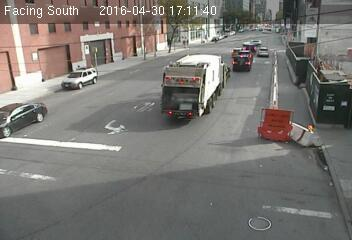neg: (33, 99, 59, 134), (280, 114, 306, 149), (83, 110, 109, 144), (192, 146, 217, 179), (155, 71, 176, 100), (187, 34, 208, 63), (274, 47, 294, 74), (76, 52, 92, 74), (125, 170, 141, 190), (205, 101, 220, 121)
